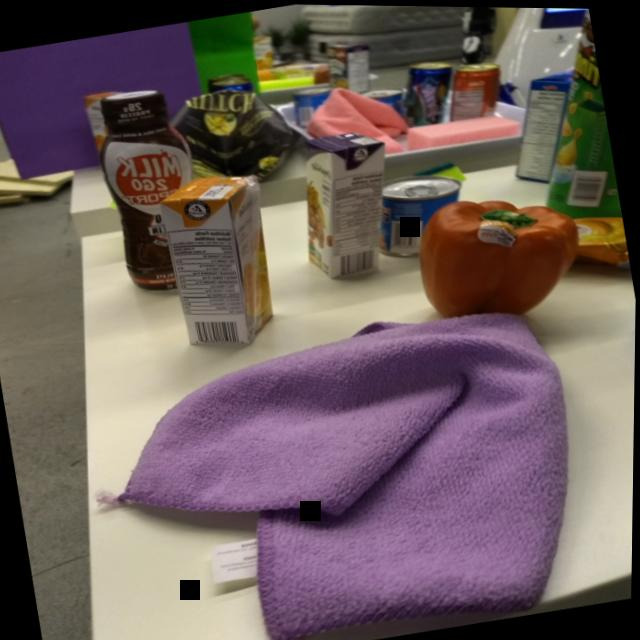cereal: (498, 61, 590, 182)
chocolate_drink: (86, 81, 216, 302)
cloth_opl: (58, 287, 603, 640)
coke: (439, 53, 508, 128)
grape_juice: (283, 121, 408, 285)
orange_juice: (155, 166, 288, 359)
paprika: (403, 175, 592, 332)
potato_chips: (174, 75, 302, 192)
sausages: (368, 165, 474, 259)
sprite: (394, 52, 461, 133)
